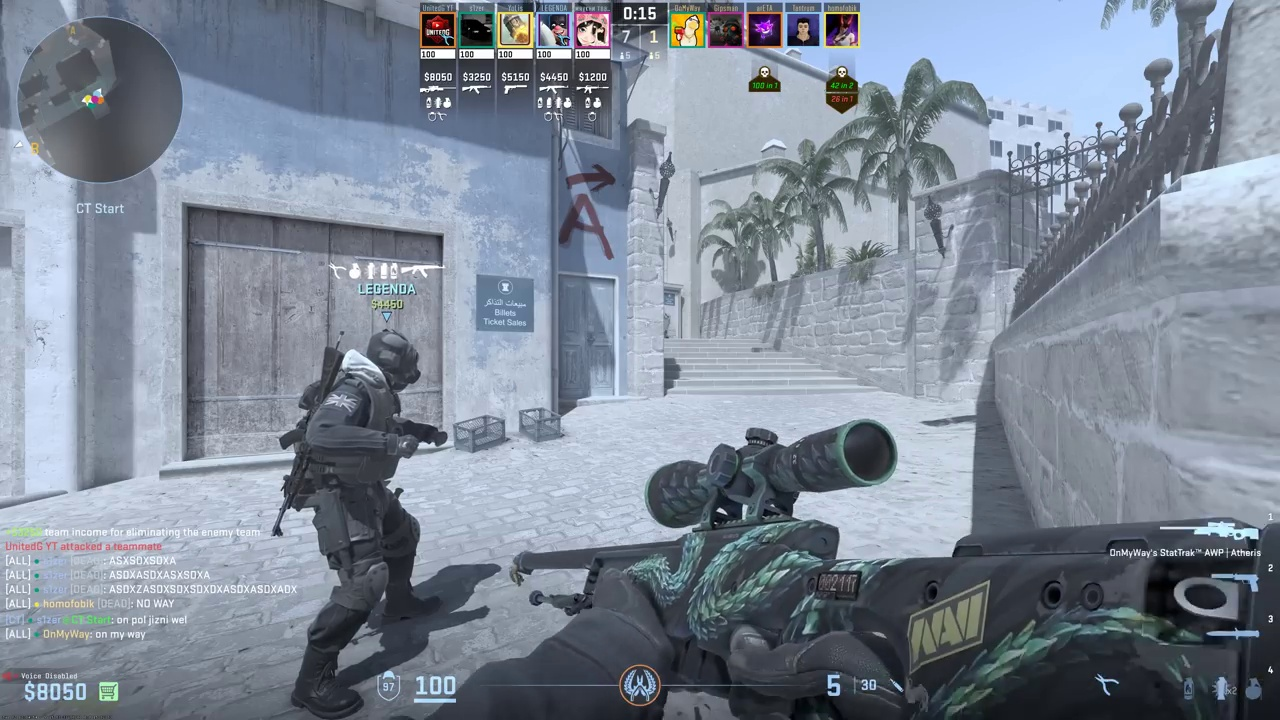CT: (290, 328, 446, 715)
